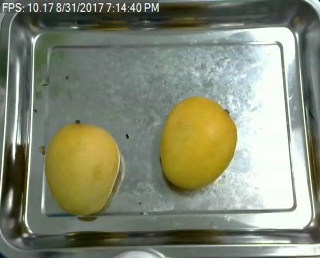Mango: (40, 121, 122, 214), (159, 96, 240, 188)
